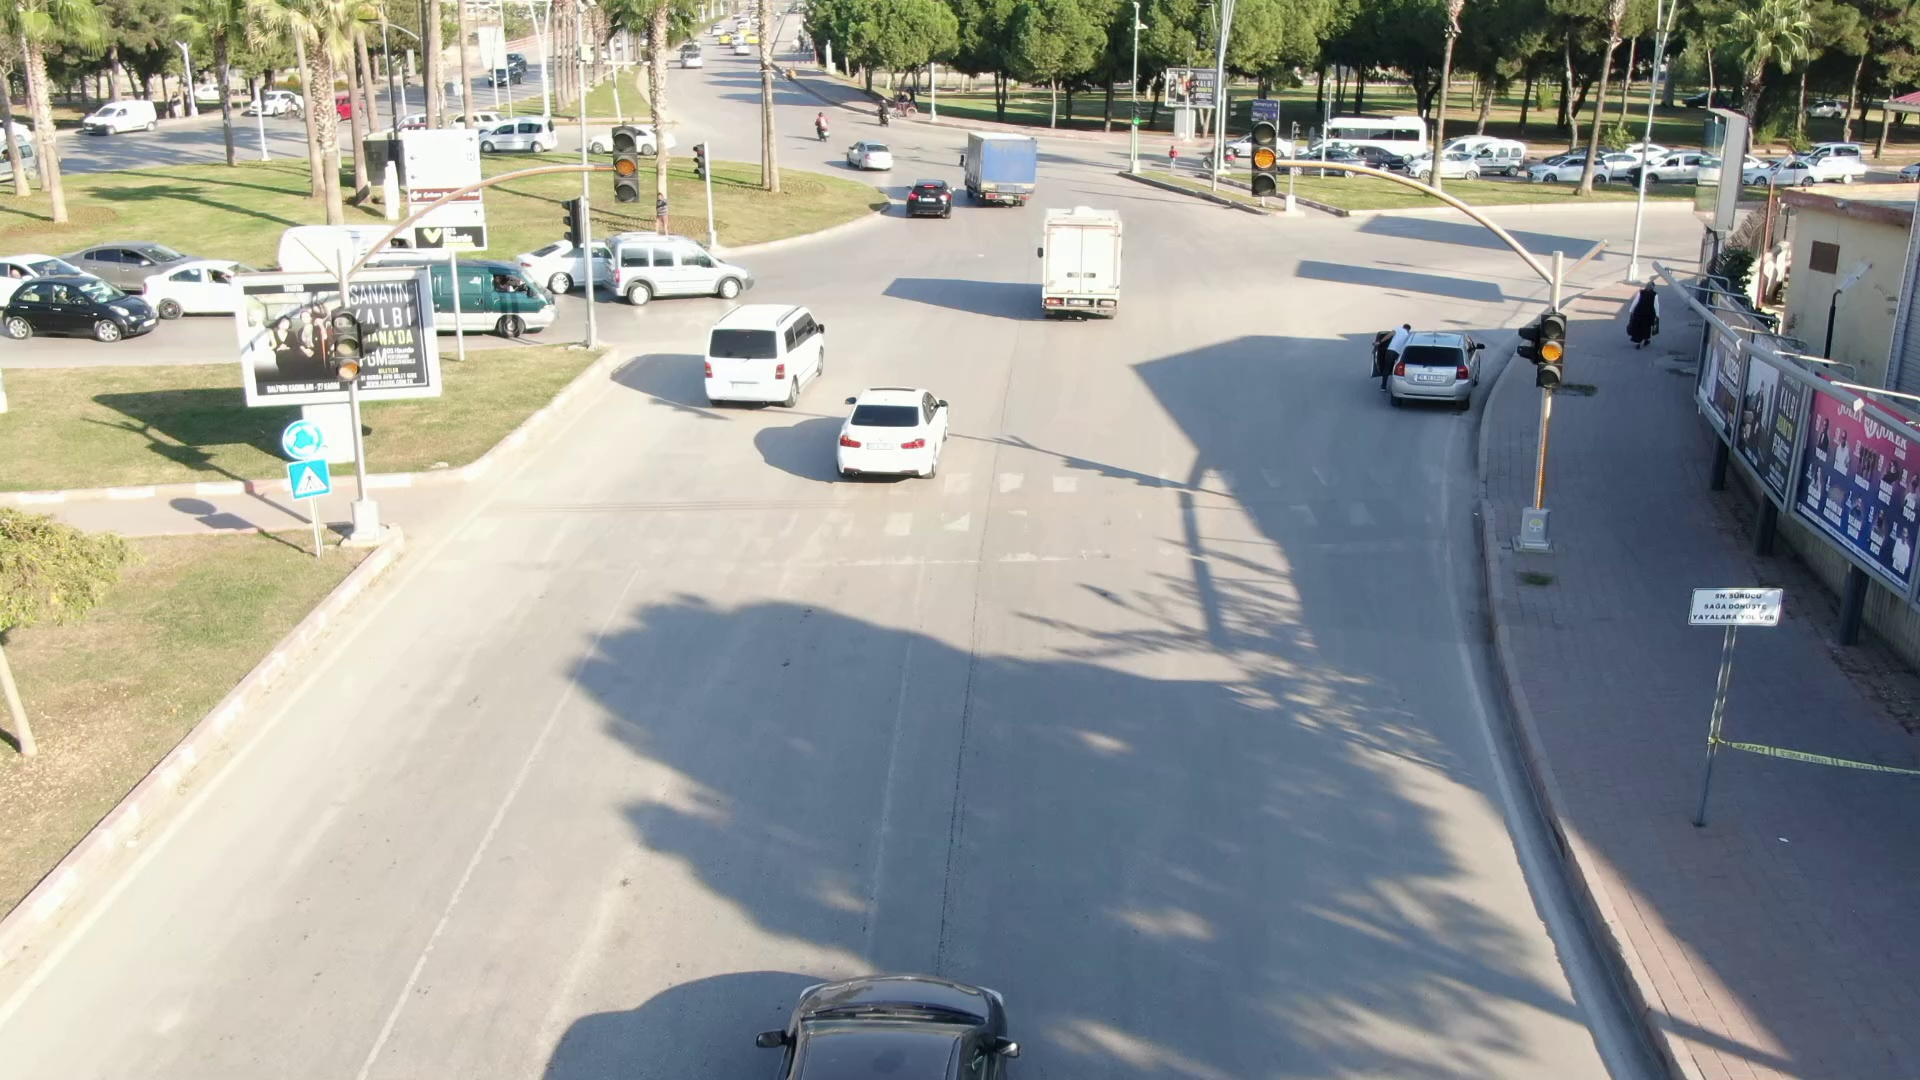car: (825, 371, 963, 494), (694, 298, 827, 408), (603, 227, 758, 304), (1034, 202, 1130, 323), (1402, 326, 1495, 415), (955, 127, 1045, 212), (897, 173, 958, 224), (838, 135, 898, 175)
person: (1617, 274, 1670, 356)
